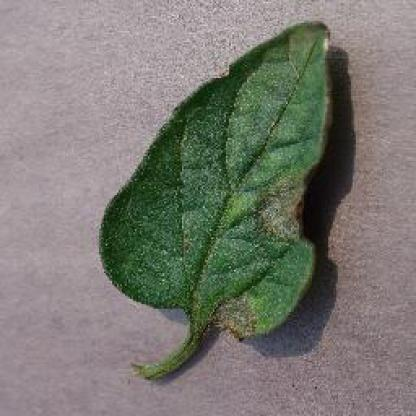bad leaf: (86, 17, 350, 375)
